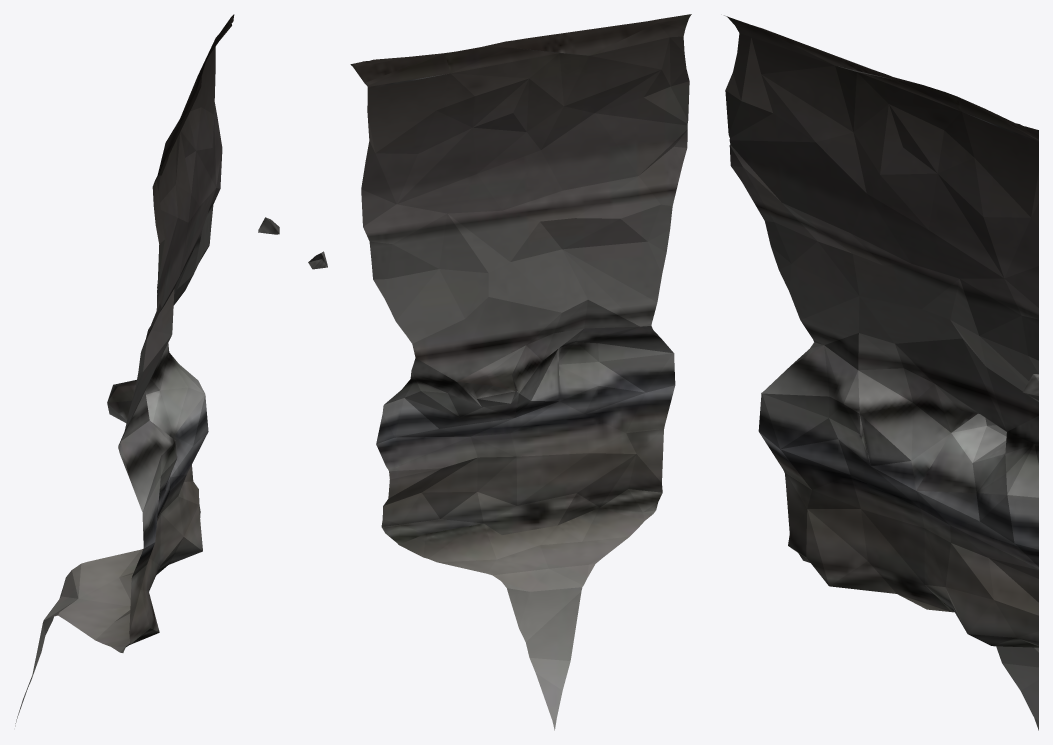
3 renders of one model, left to right at view 1: azimuth 30°, elevation 25°; view 2: azimuth 150°, elevation 25°; view 3: azimuth 270°, elevation 25°, orthographic. The views are drawn at different scales.
Bounding box in the file's own units: 0.2448 × 0.5847 × 0.2356.
1 material, 1 textured.
